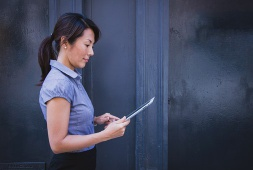female: (60, 25, 100, 74)
